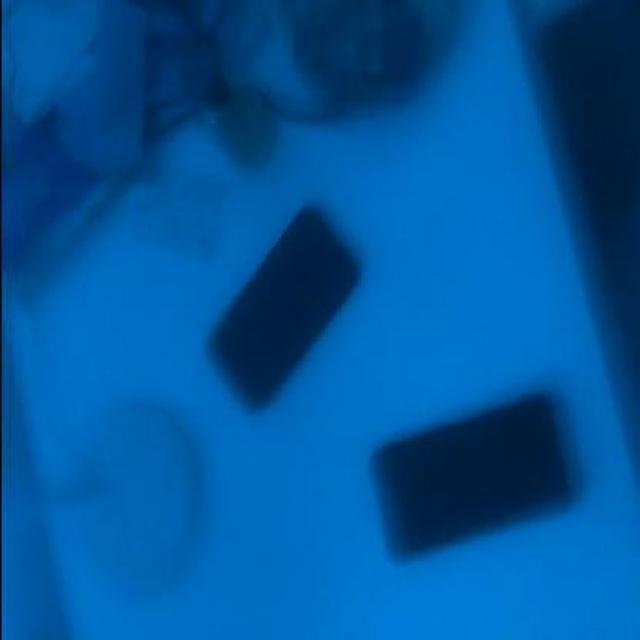phone: (369, 391, 572, 560), (207, 205, 361, 409)
